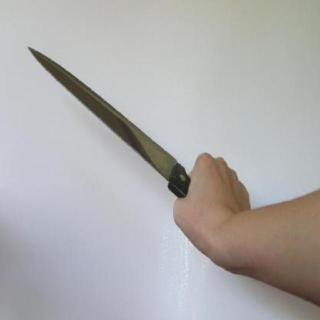knife: (24, 40, 224, 232)
